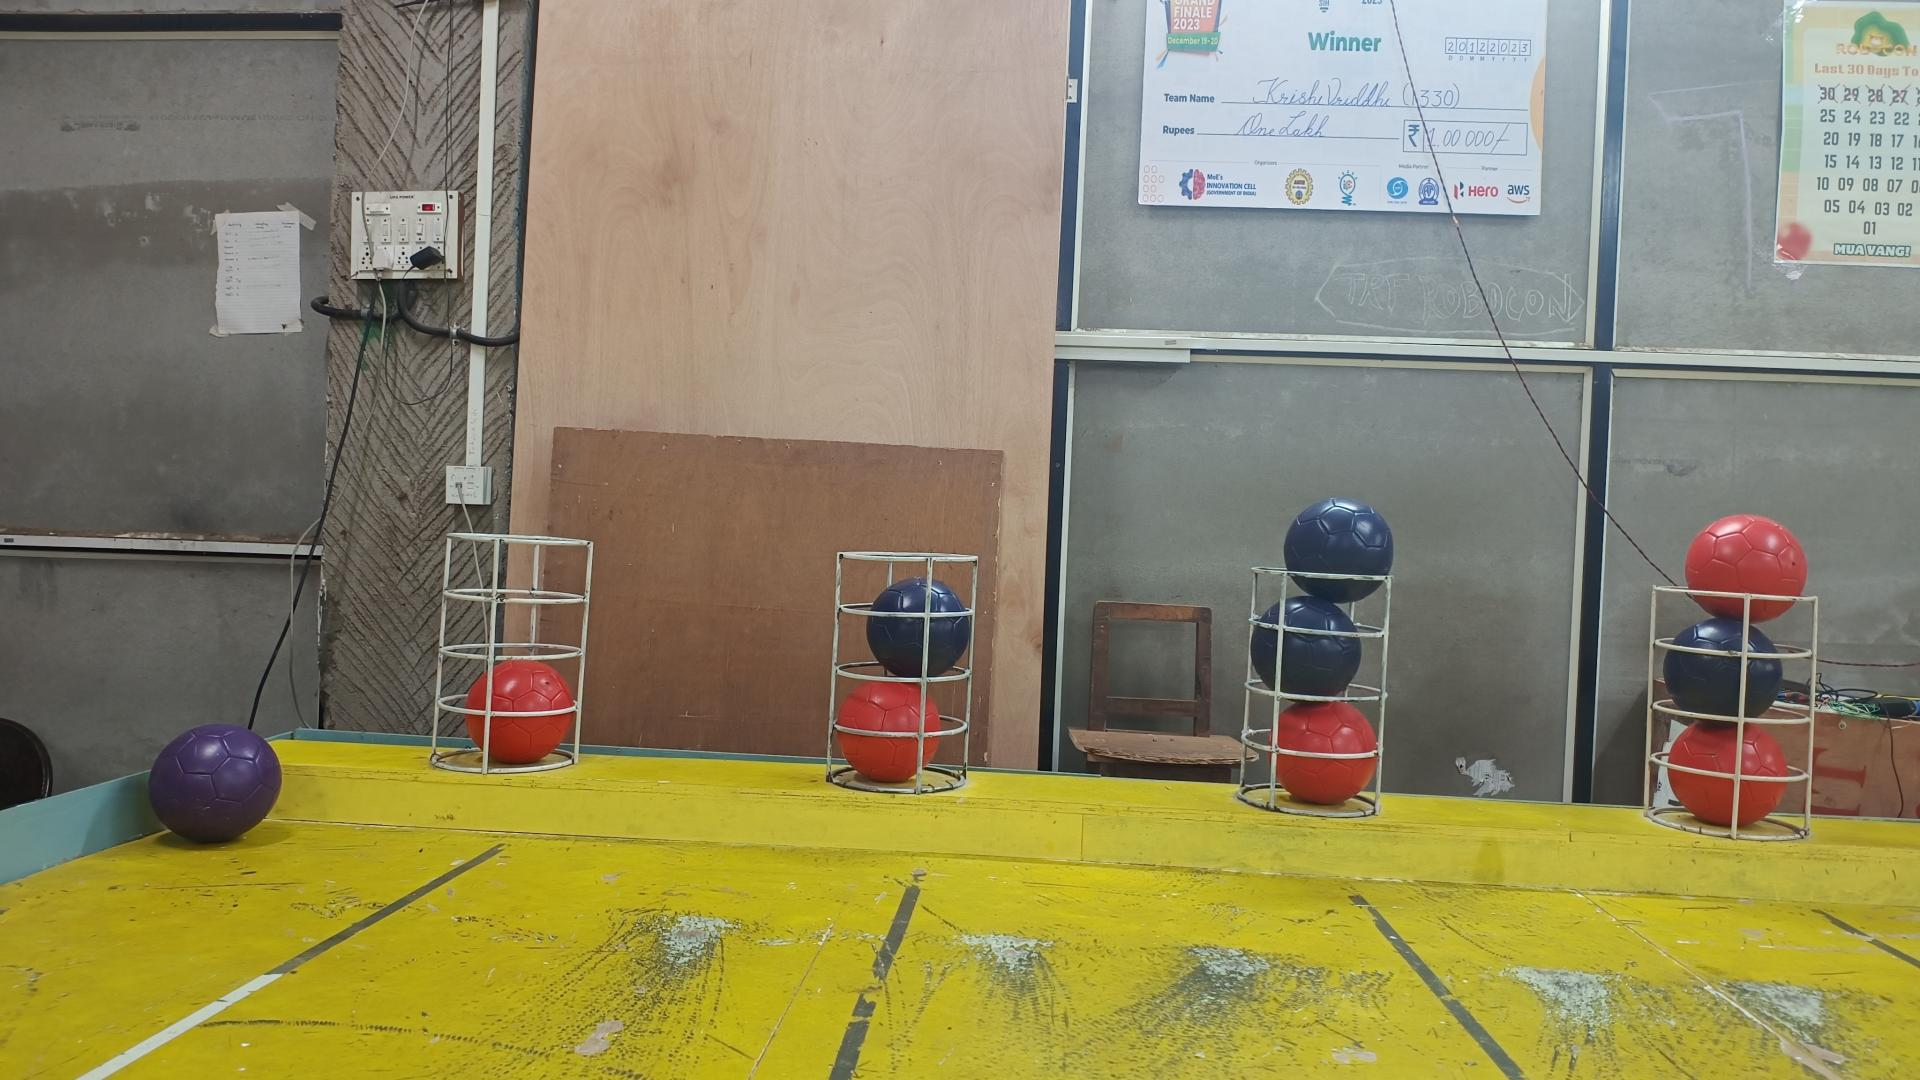dhoka: (1664, 618, 1784, 720), (1284, 498, 1394, 604), (1253, 593, 1362, 699), (865, 574, 971, 675)
laale: (1687, 514, 1807, 626), (1668, 720, 1788, 824), (464, 659, 574, 765), (836, 682, 942, 787), (1270, 702, 1375, 803)
